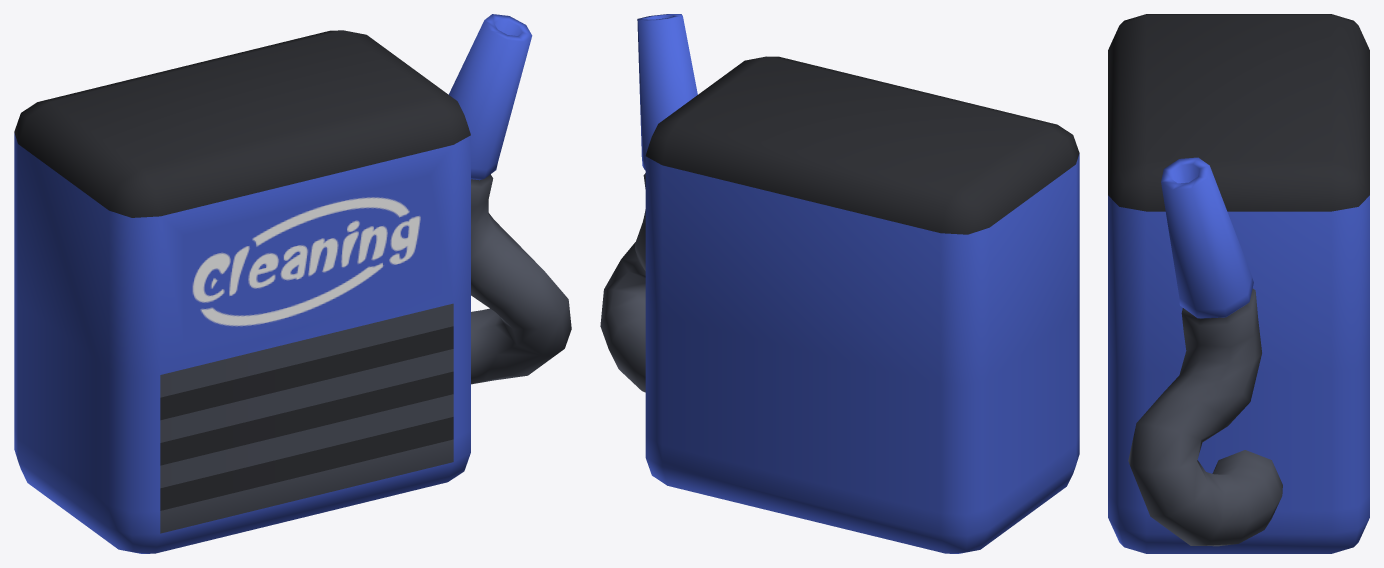
File: Cleaner_RV.fbx
The picture shows the model from 3 angles, left to right: view 1: azimuth 30°, elevation 25°; view 2: azimuth 150°, elevation 25°; view 3: azimuth 270°, elevation 25°; orthographic projection. The views are drawn at different scales.
Parts seen in each view (by area): view 1: Cleaner_RV; view 2: Cleaner_RV; view 3: Cleaner_RV.
Part boxes in pixels (x1=…): Cleaner_RV: x1=14, y1=14, x2=571, y2=553; Cleaner_RV: x1=600, y1=14, x2=1079, y2=553; Cleaner_RV: x1=1108, y1=14, x2=1369, y2=553.
Bounding box in the file's own units: 2.56 × 2.19 × 1.2.
